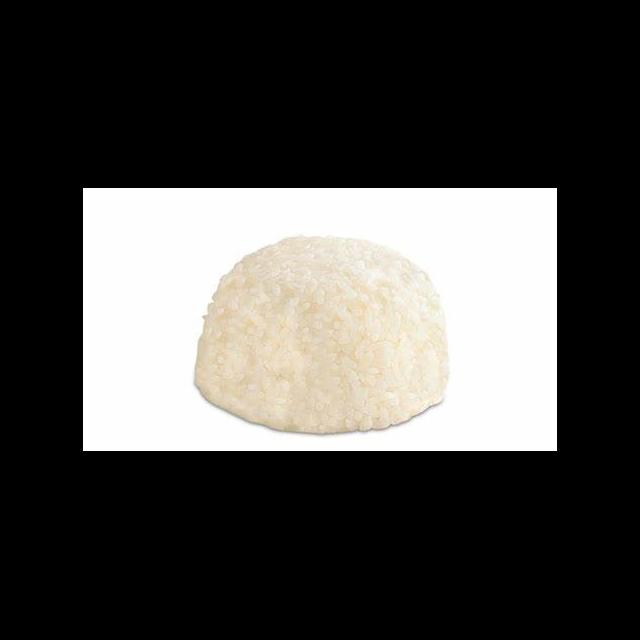food_waste: (179, 238, 483, 431)
